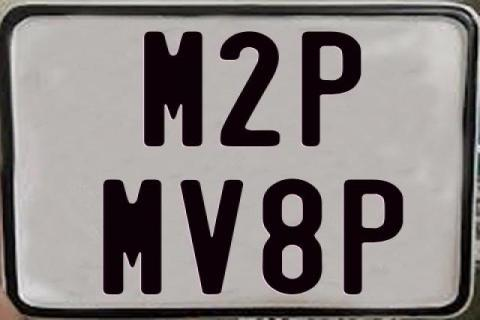0: (218, 29, 282, 145), (261, 178, 322, 294)
M: (142, 30, 204, 150), (101, 178, 162, 296)
P: (301, 31, 363, 147), (341, 178, 401, 294)
V: (180, 179, 245, 299)
